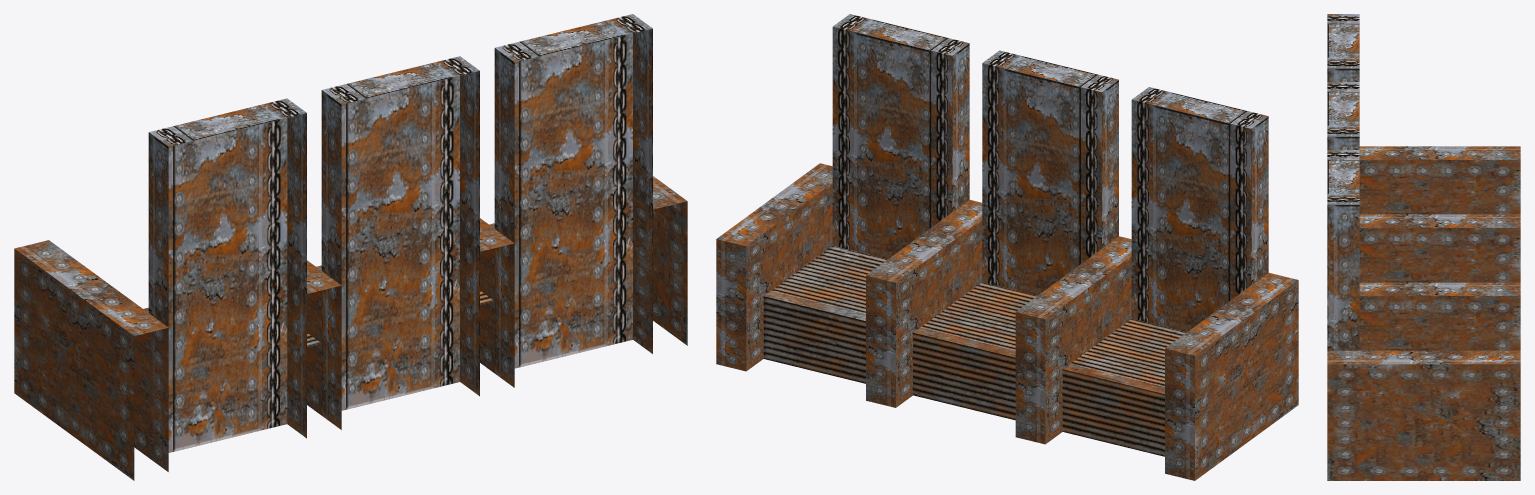
Rendered from Small Chairs.glb.
The picture shows the model from 3 angles, left to right: view 1: azimuth 30°, elevation 25°; view 2: azimuth 150°, elevation 25°; view 3: azimuth 270°, elevation 25°; orthographic projection. The views are drawn at different scales.
Visible parts, largest first — view 1: object_2, object_1, object_0; view 2: object_2, object_0, object_1; view 3: object_0, object_1, object_2.
Part boxes in pixels (box(x1,y1,x2,y2)): object_2: box(149, 14, 652, 452); object_1: box(14, 28, 687, 471); object_0: box(14, 195, 687, 480); object_2: box(832, 14, 1268, 331); object_0: box(746, 183, 1298, 480); object_1: box(716, 43, 1297, 480); object_0: box(1327, 160, 1520, 480); object_1: box(1327, 68, 1520, 364); object_2: box(1327, 14, 1359, 204).
Bounding box in the file's own units: 400 × 225 × 150.
2 materials, 2 textured.
